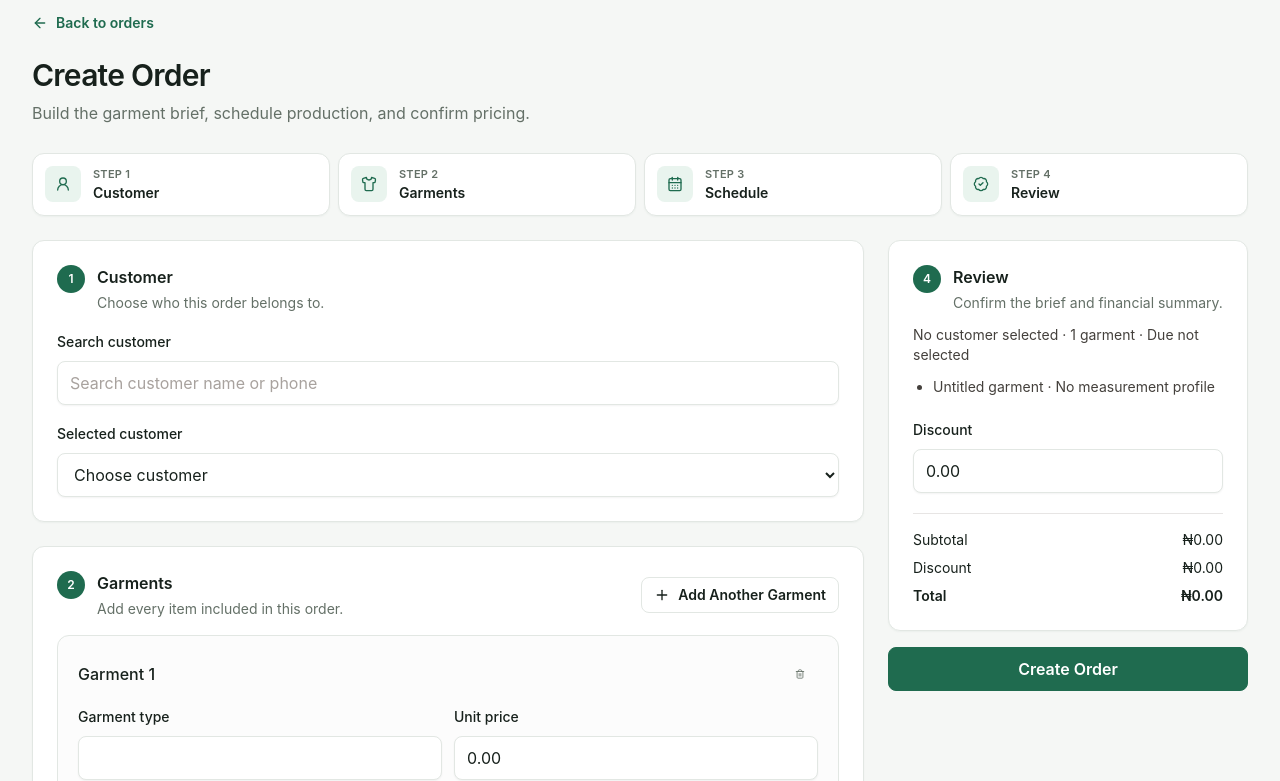
add garment and remove garment work
Click the button "Add Another Garment".
click(740, 594)  # box [641,576,839,612]
(page scrolled)
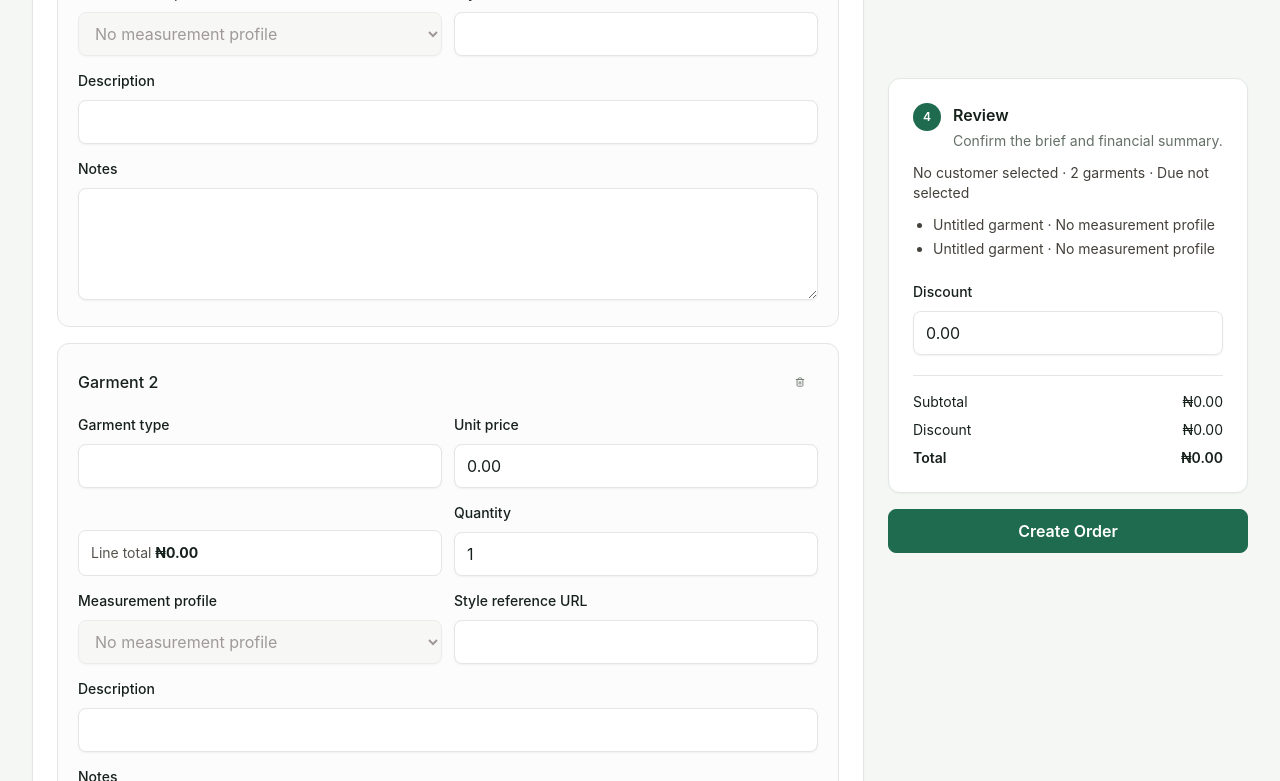
Now the text "Garment 2" is shown, box [78,370,158,394]
Click the button named "remove garment".
click(800, 382)  # box [782,364,818,400]
(page scrolled)
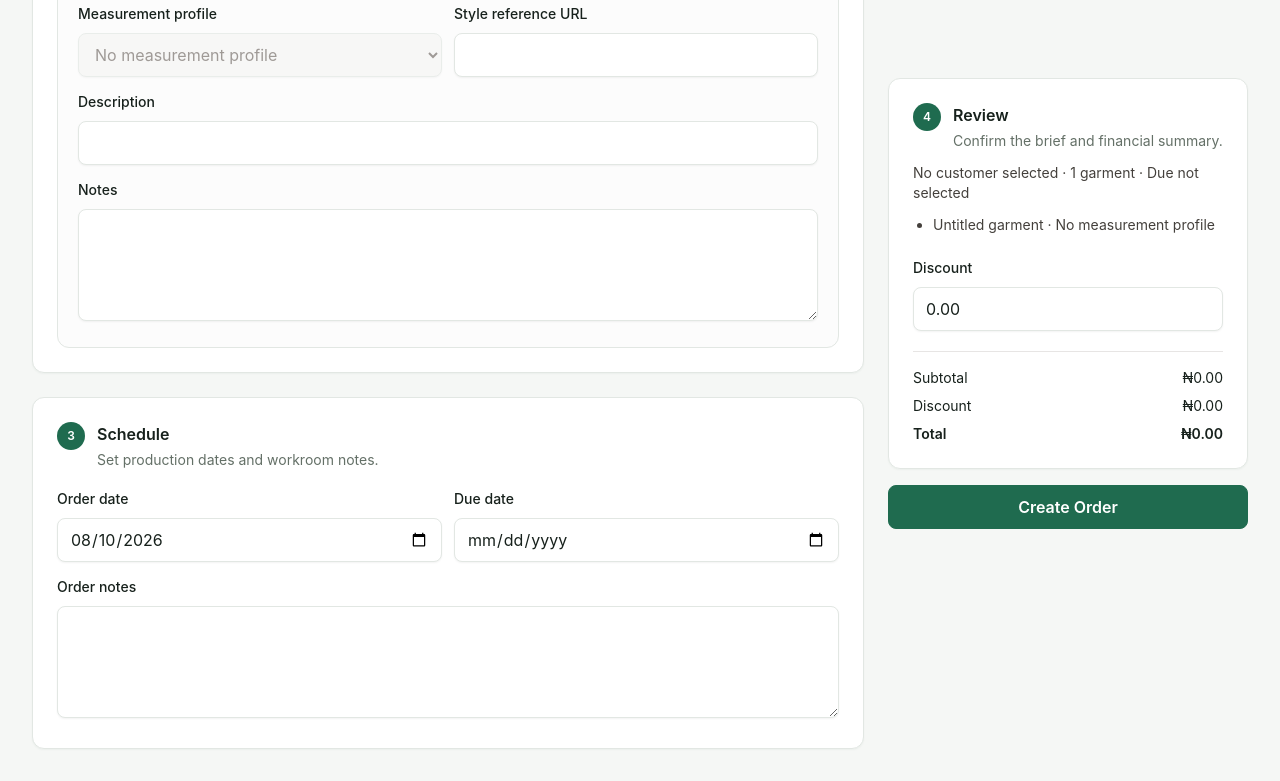
Now the text "Garment 2" is gone
